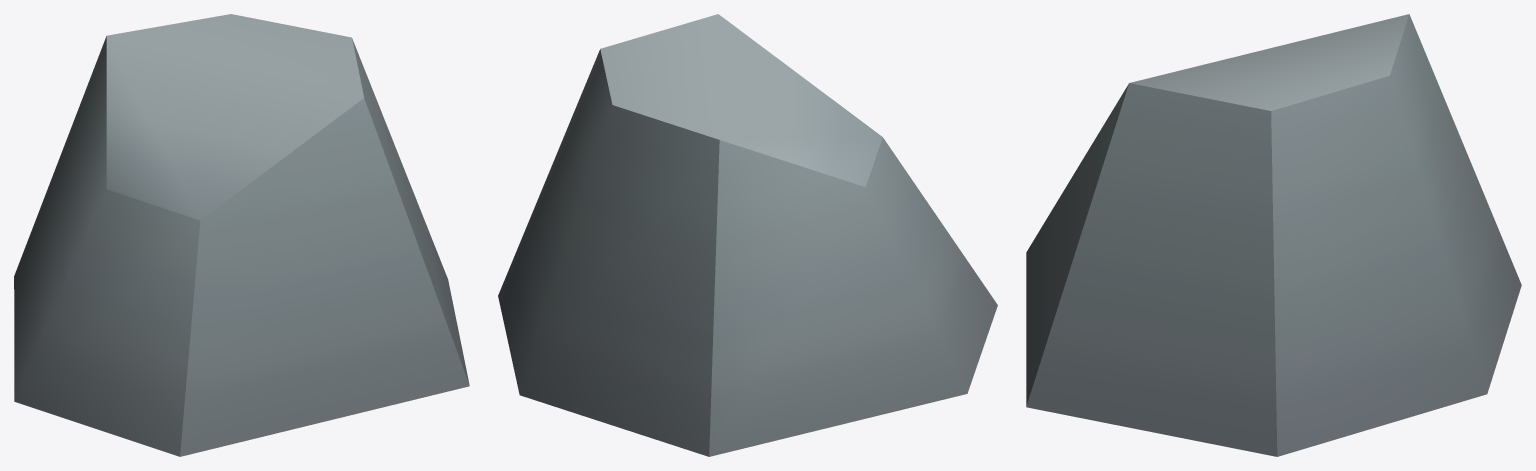
Rendered from rock_single_D.glb.
3 views of the same model, side by side, from view 1: azimuth 30°, elevation 25°; view 2: azimuth 150°, elevation 25°; view 3: azimuth 270°, elevation 25° (orthographic). The views are drawn at different scales.
Parts seen in each view (by area): view 1: rock_single_D; view 2: rock_single_D; view 3: rock_single_D.
Boxes of the visible parts, bbox=[...] form: rock_single_D: bbox=[14, 14, 469, 456]; rock_single_D: bbox=[498, 14, 997, 456]; rock_single_D: bbox=[1026, 14, 1521, 456].
Bounding box in the file's own units: 0.2866 × 0.1629 × 0.2497.
1 material, 1 textured.
